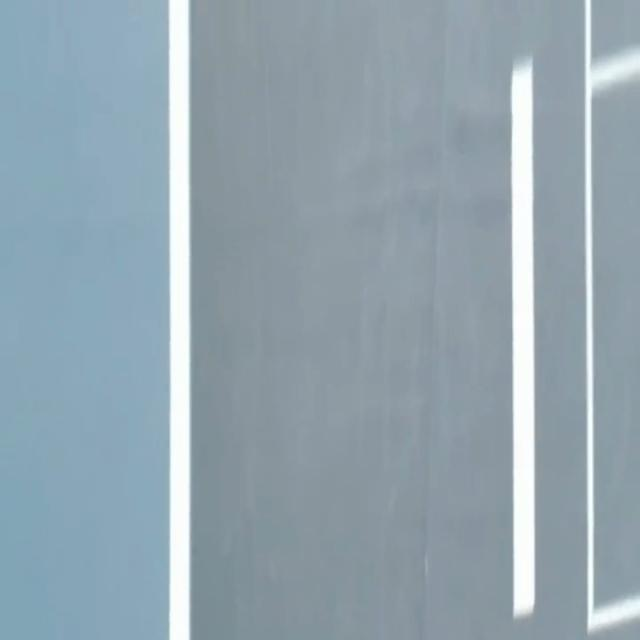center: (512, 56, 534, 617)
left: (168, 0, 190, 639)
